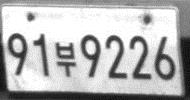1: (32, 32, 50, 76)
2: (129, 35, 152, 81), (105, 34, 128, 79)
6: (153, 35, 176, 81)
9: (6, 33, 28, 76), (80, 33, 101, 78)
부: (54, 41, 78, 78)
